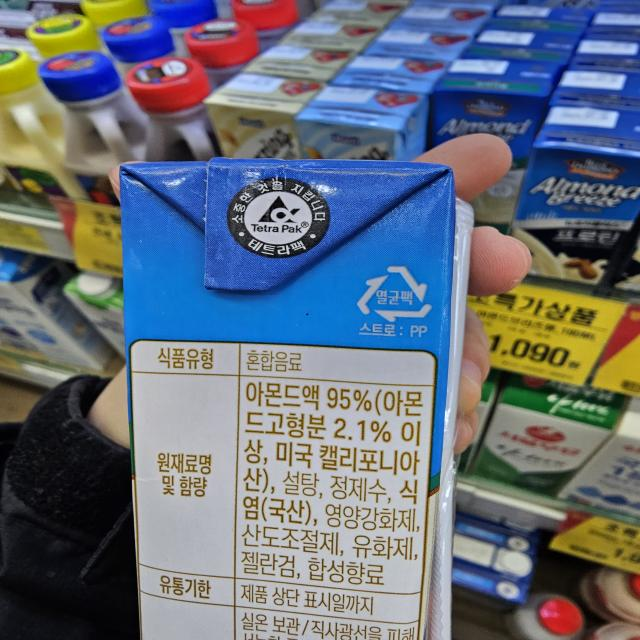SterilizedPack: (348, 259, 437, 328)
